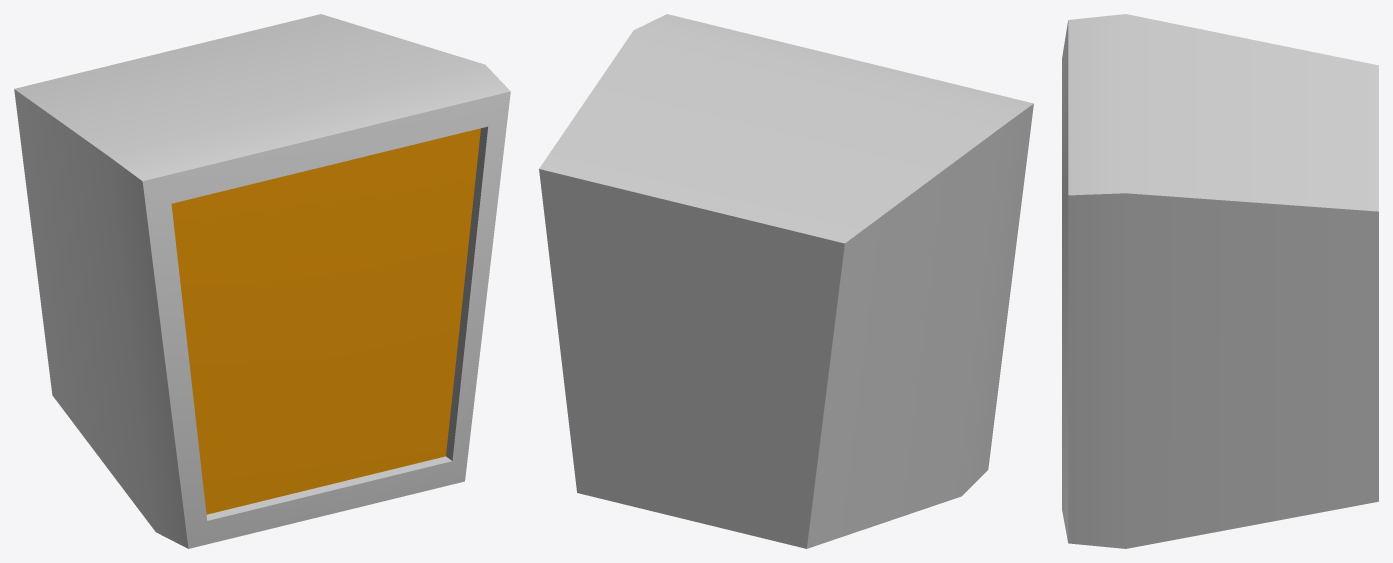
File: ConeMonitor.fbx
The picture shows the model from 3 angles, left to right: view 1: azimuth 30°, elevation 25°; view 2: azimuth 150°, elevation 25°; view 3: azimuth 270°, elevation 25°; orthographic projection. The views are drawn at different scales.
Visible parts, largest first — view 1: TVCone; view 2: TVCone; view 3: TVCone.
Boxes of the visible parts, x1,y1,x2,y2 form: TVCone: (14, 14, 510, 548); TVCone: (539, 14, 1033, 548); TVCone: (1062, 14, 1378, 548).
Size of the model in its own units: 0.9064 by 0.8912 by 0.6769.
